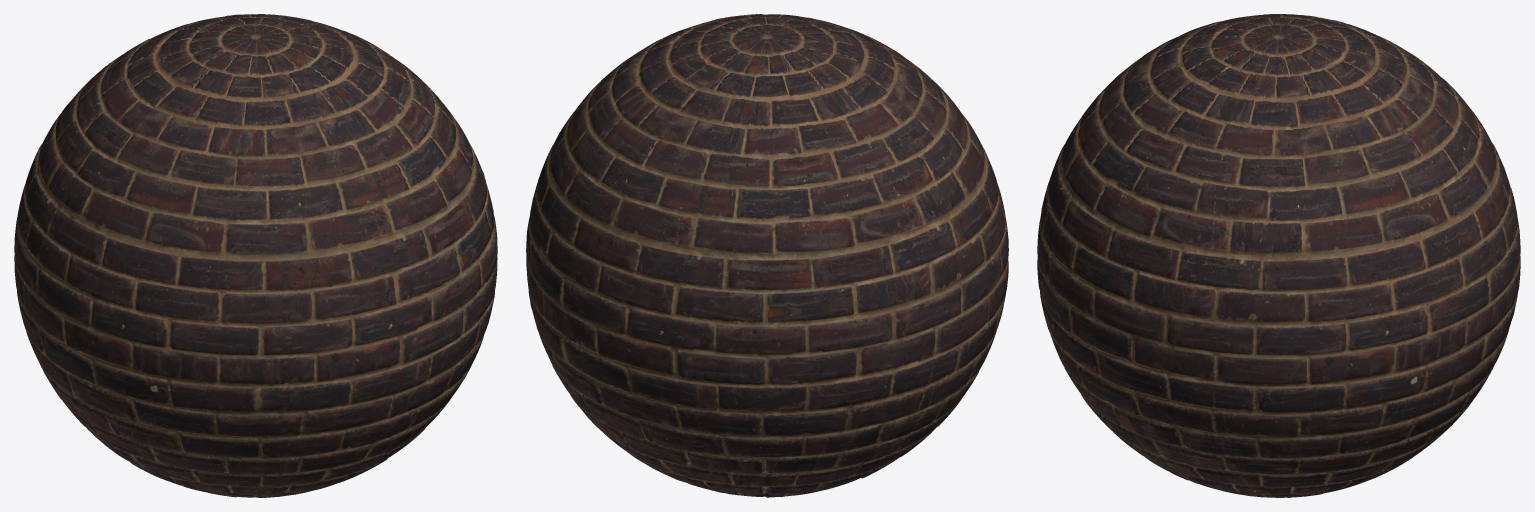
The model's file is brick_wall_10_2k.gltf.
The picture shows the model from 3 angles, left to right: view 1: azimuth 30°, elevation 25°; view 2: azimuth 150°, elevation 25°; view 3: azimuth 270°, elevation 25°; orthographic projection.
Parts seen in each view (by area): view 1: sphere_gltf; view 2: sphere_gltf; view 3: sphere_gltf.
Part boxes in pixels (x1,y1,x2,y2): sphere_gltf: [14, 14, 497, 497]; sphere_gltf: [526, 14, 1008, 497]; sphere_gltf: [1037, 14, 1520, 497].
Bounding box in the file's own units: 1.91 × 1.91 × 1.91.
1 material, 1 textured.
